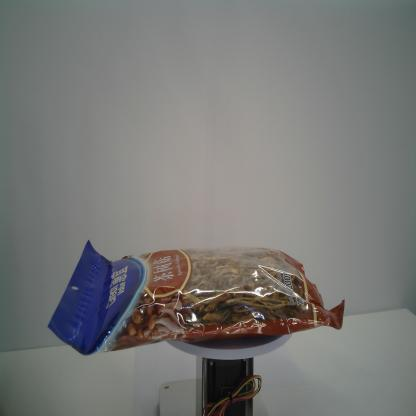Dried Food: (47, 239, 345, 356)
